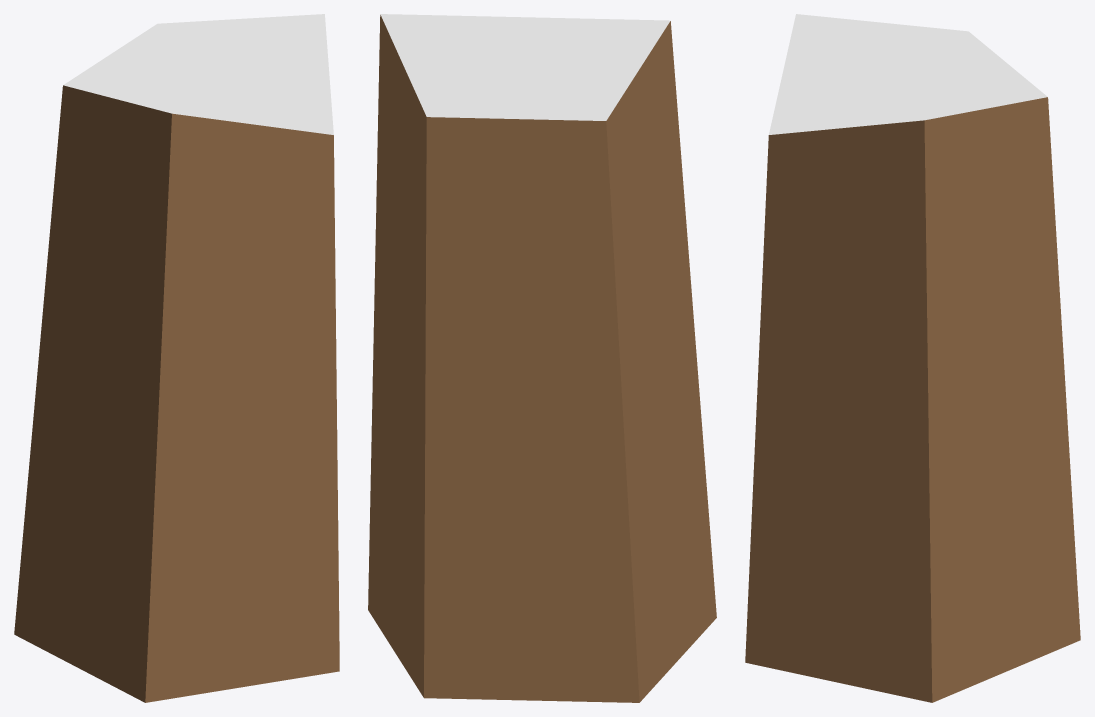
The model's file is Fir_Stump_Snow_01_LOD.fbx.
3 views of the same model, side by side, from view 1: azimuth 30°, elevation 25°; view 2: azimuth 150°, elevation 25°; view 3: azimuth 270°, elevation 25° (orthographic). The views are drawn at different scales.
Parts seen in each view (by area): view 1: Fir_Stump_Snow_01_LOD0; view 2: Fir_Stump_Snow_01_LOD0; view 3: Fir_Stump_Snow_01_LOD0.
Part boxes in pixels (x1=…): Fir_Stump_Snow_01_LOD0: x1=14, y1=14, x2=339, y2=702; Fir_Stump_Snow_01_LOD0: x1=368, y1=14, x2=716, y2=702; Fir_Stump_Snow_01_LOD0: x1=745, y1=14, x2=1080, y2=702.
Size of what is drawn, in the model's own units: 45.72 by 87 by 45.72.
